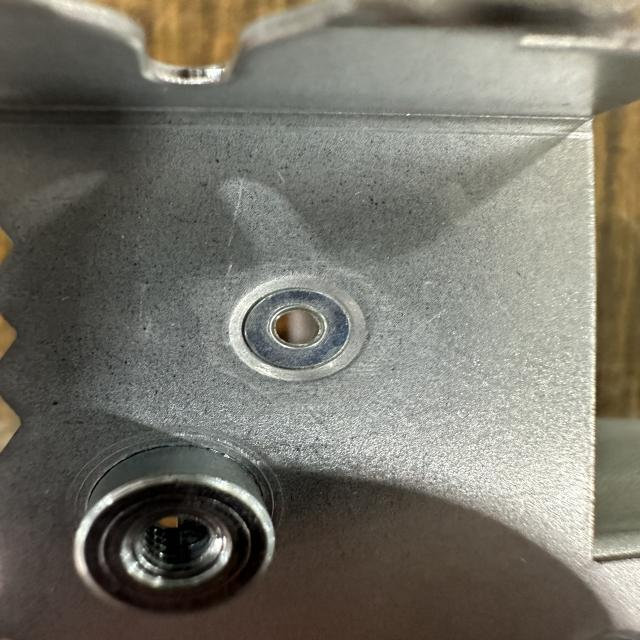Missing screw: (215, 266, 385, 392)
